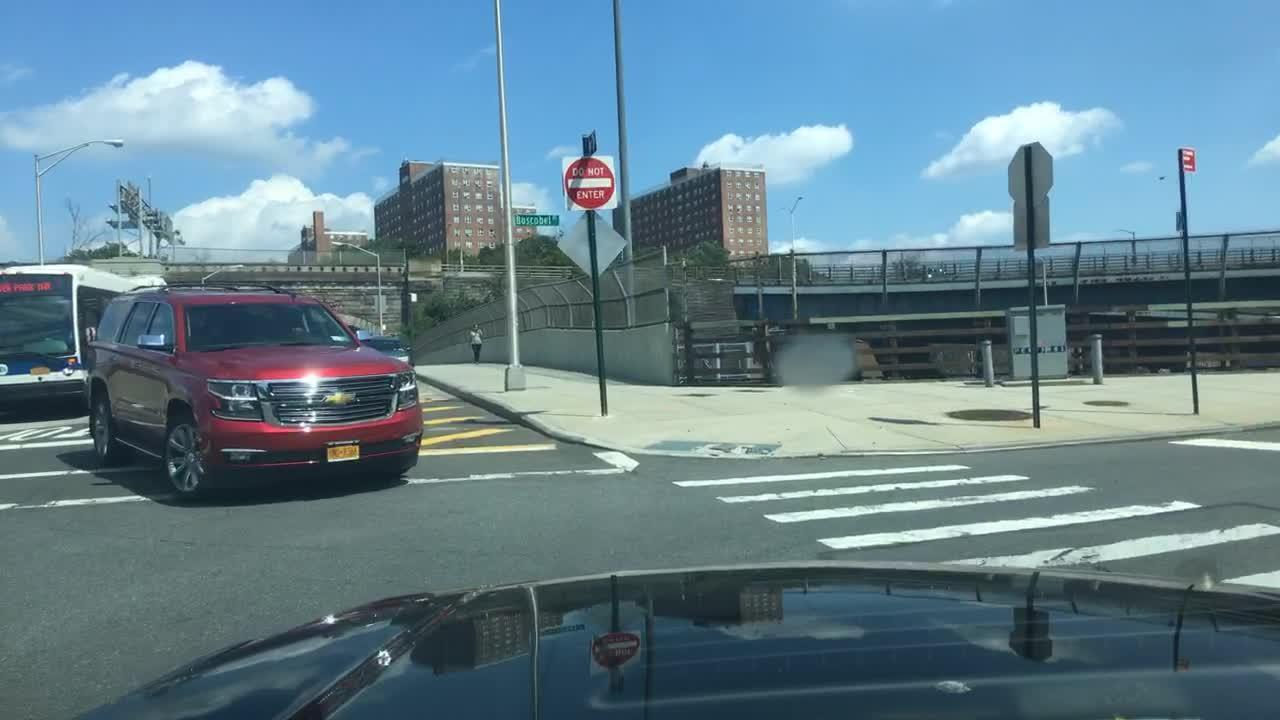chevrolet: (321, 382, 364, 416)
